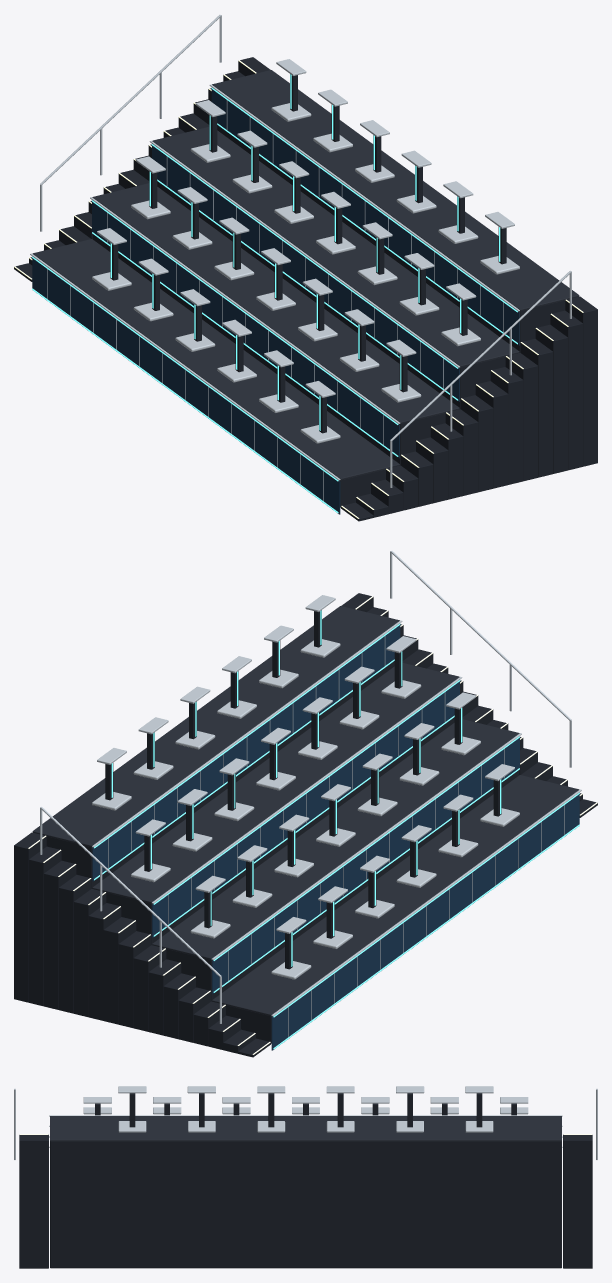
The model's file is SM_CaseTerraces.fbx.
The picture shows the model from 3 angles, top to bottom: view 1: azimuth 30°, elevation 25°; view 2: azimuth 150°, elevation 25°; view 3: azimuth 270°, elevation 25°; orthographic projection. The views are drawn at different scales.
Visible parts, largest first — view 1: SM_CaseTerraces; view 2: SM_CaseTerraces; view 3: SM_CaseTerraces.
Boxes of the visible parts, <box> form: SM_CaseTerraces: <box>14,15,597,521</box>; SM_CaseTerraces: <box>14,551,597,1057</box>; SM_CaseTerraces: <box>14,1086,597,1268</box>.
Size of the model in its own units: 484 by 1220 by 400.
